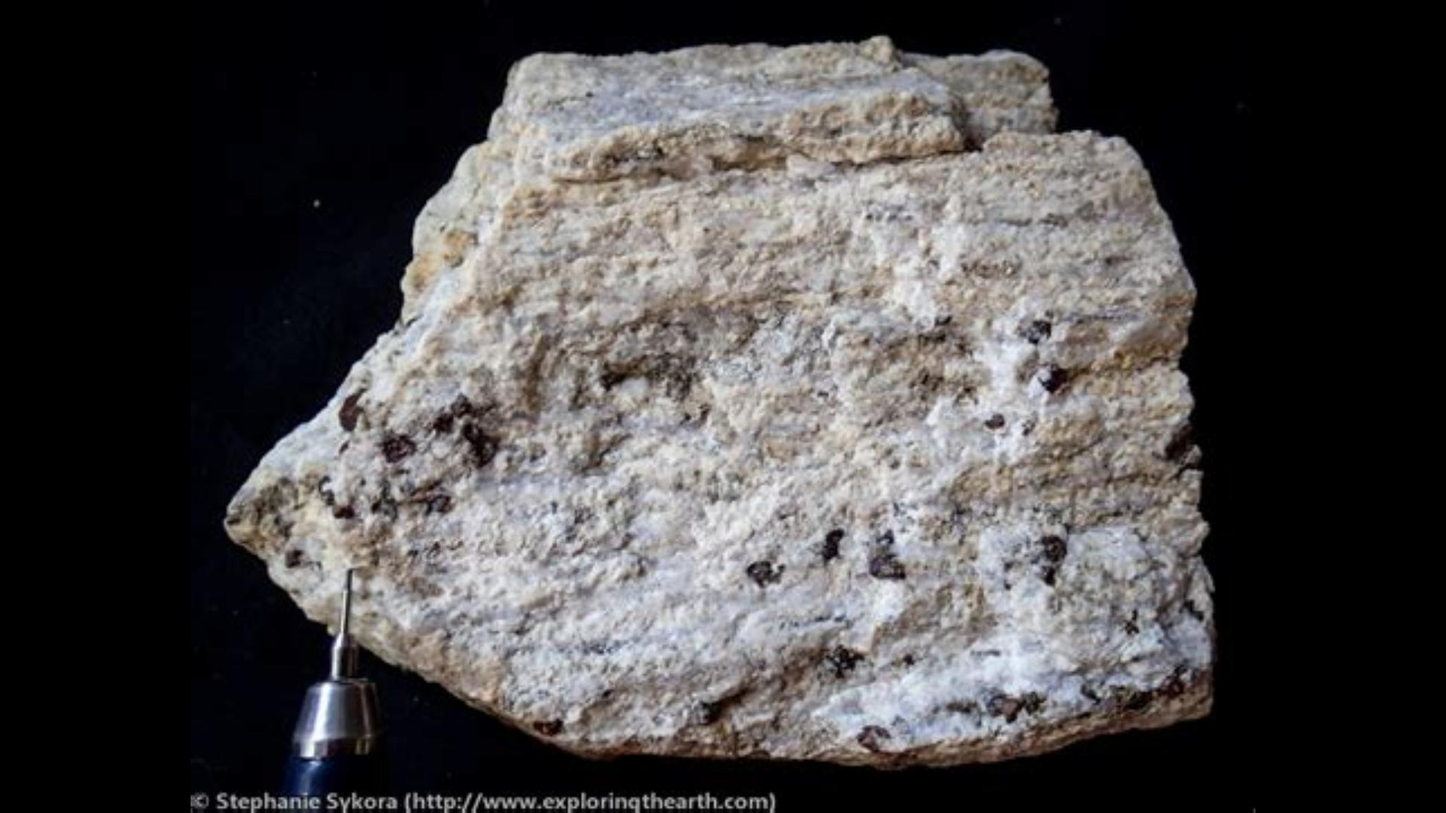rock: (226, 38, 1197, 761)
